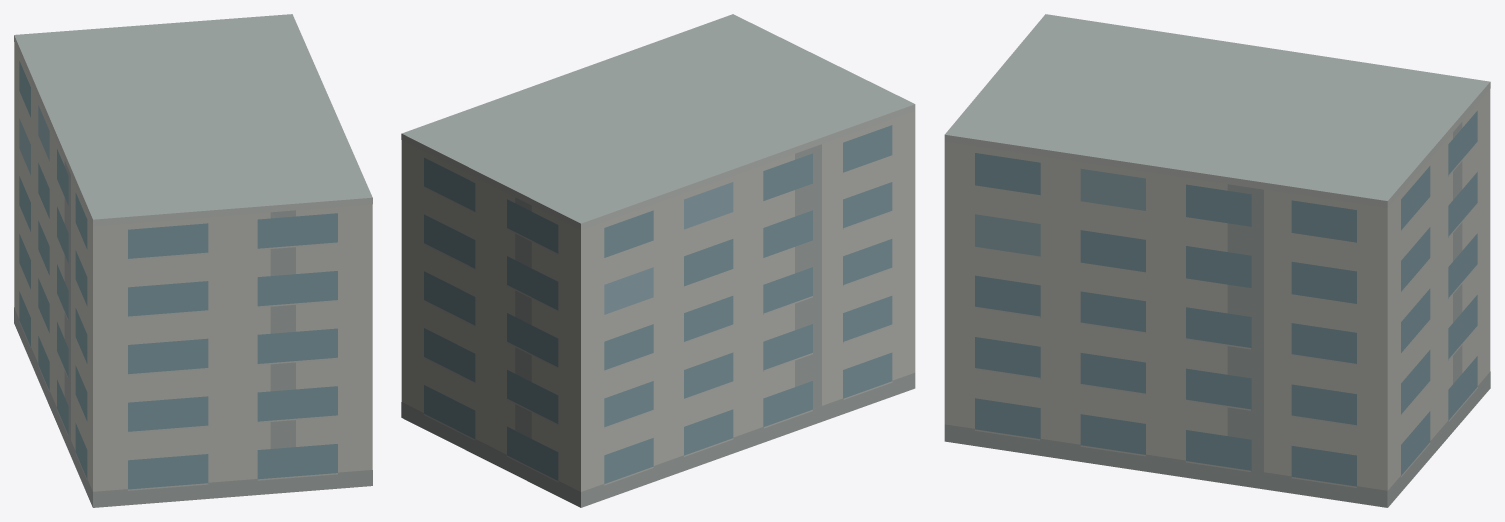
The model's file is survey-upis-32852652.glb.
3 views of the same model, side by side, from view 1: azimuth 30°, elevation 25°; view 2: azimuth 150°, elevation 25°; view 3: azimuth 270°, elevation 25° (orthographic). The views are drawn at different scales.
Parts seen in each view (by area): view 1: survey-upis-32852652.tmp; view 2: survey-upis-32852652.tmp; view 3: survey-upis-32852652.tmp.
Part boxes in pixels (bbox=[...]): survey-upis-32852652.tmp: bbox=[14, 14, 372, 507]; survey-upis-32852652.tmp: bbox=[401, 14, 915, 507]; survey-upis-32852652.tmp: bbox=[944, 14, 1490, 507].
Size of the model in its own units: 13.81 by 10.55 by 17.02.
